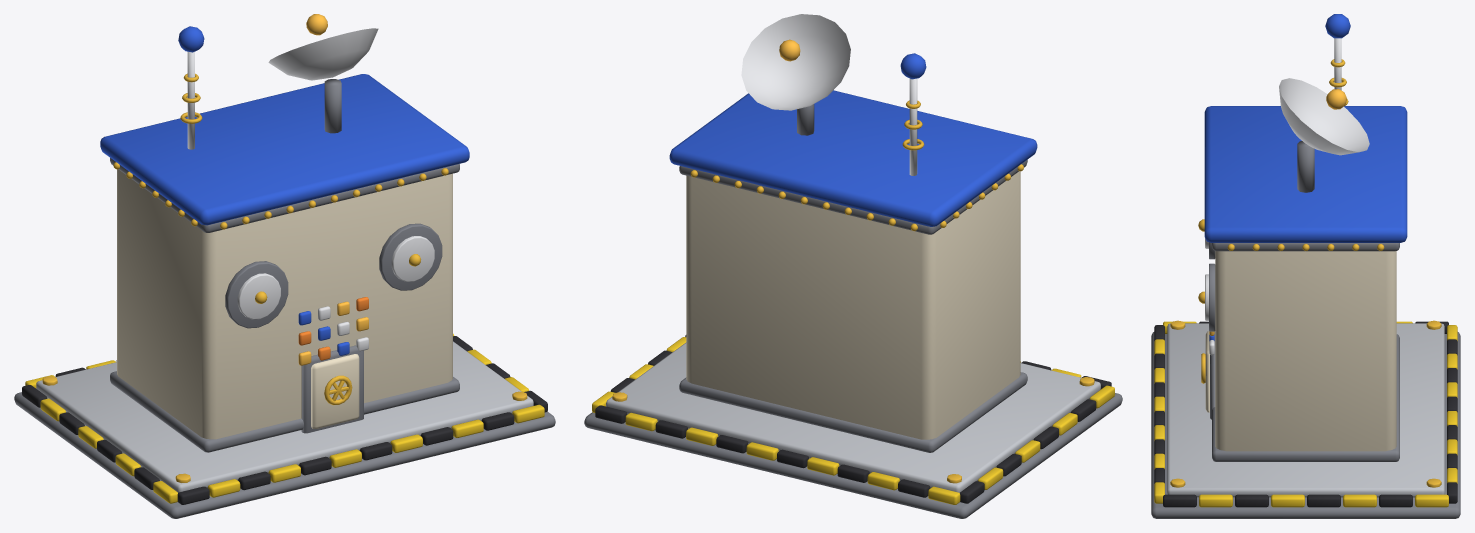
Rendered from Library.glb.
3 views of the same model, side by side, from view 1: azimuth 30°, elevation 25°; view 2: azimuth 150°, elevation 25°; view 3: azimuth 270°, elevation 25° (orthographic). The views are drawn at different scales.
Parts seen in each view (by area): view 1: Library; view 2: Library; view 3: Library.
Part boxes in pixels (x1=…): Library: x1=14, y1=14, x2=555, y2=518; Library: x1=584, y1=14, x2=1122, y2=518; Library: x1=1151, y1=14, x2=1460, y2=518.
Size of the model in its own units: 4 by 3.93 by 2.9.
